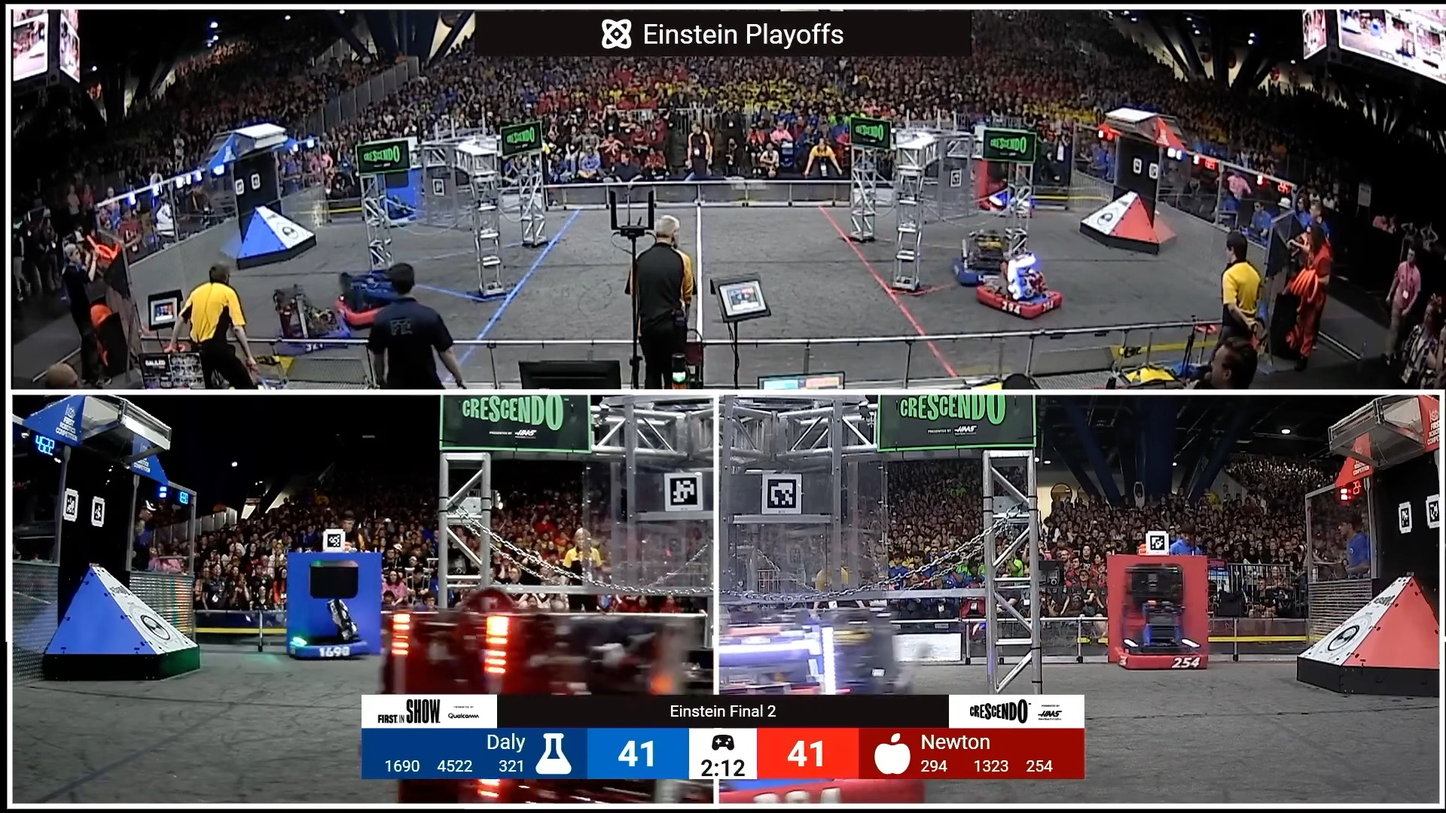bumpers: (1105, 630, 1209, 674), (970, 283, 1073, 324), (950, 248, 1049, 289), (276, 634, 382, 669), (332, 295, 424, 327), (274, 325, 357, 358)
